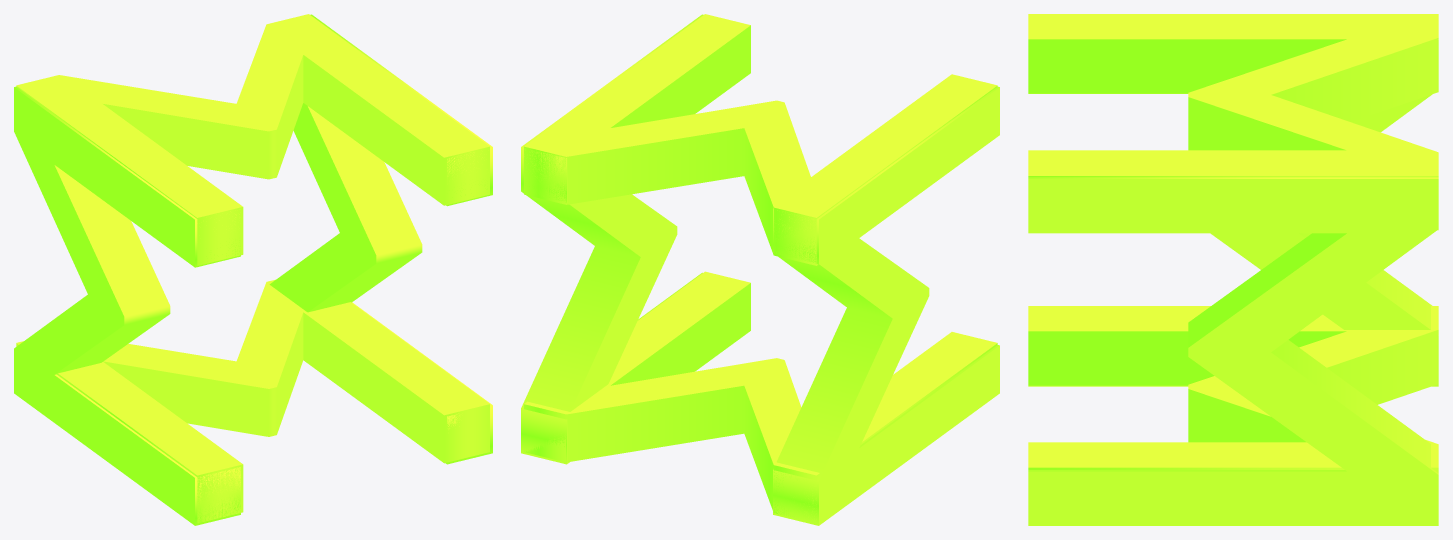
3 renders of one model, left to right at view 1: azimuth 30°, elevation 25°; view 2: azimuth 150°, elevation 25°; view 3: azimuth 270°, elevation 25°, orthographic. The views are drawn at different scales.
Parts seen in each view (by area): view 1: M, M.003, M.001, M.002; view 2: M, M.001, M.003, M.002; view 3: M.002, M, M.003, M.001.
Boxes of the visible parts, bbox=[...] form: M: bbox=[16, 14, 489, 265]; M.003: bbox=[16, 279, 489, 523]; M.001: bbox=[14, 86, 240, 525]; M.002: bbox=[269, 14, 492, 464]; M: bbox=[524, 14, 997, 265]; M.001: bbox=[773, 86, 999, 525]; M.003: bbox=[524, 271, 997, 522]; M.002: bbox=[521, 14, 703, 464]; M.002: bbox=[1028, 177, 1438, 525]; M: bbox=[1028, 14, 1438, 230]; M.003: bbox=[1028, 306, 1438, 472]; M.001: bbox=[1028, 39, 1438, 386].
Size of the model in its own units: 3.98 by 3.92 by 4.19.
